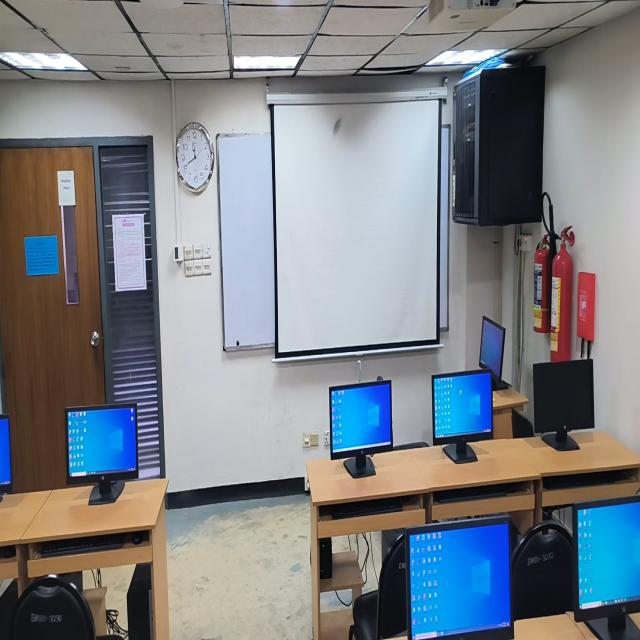Chair: (8, 570, 97, 640), (348, 532, 404, 640), (511, 521, 570, 621)
Cpu: (121, 564, 152, 640)
Fire Extinguisher: (548, 207, 577, 358), (530, 229, 550, 337)
Monitor: (408, 514, 510, 640), (575, 499, 640, 637), (66, 403, 140, 501), (328, 381, 394, 477), (532, 360, 595, 452), (431, 368, 491, 463), (480, 316, 504, 385), (0, 416, 10, 497)
